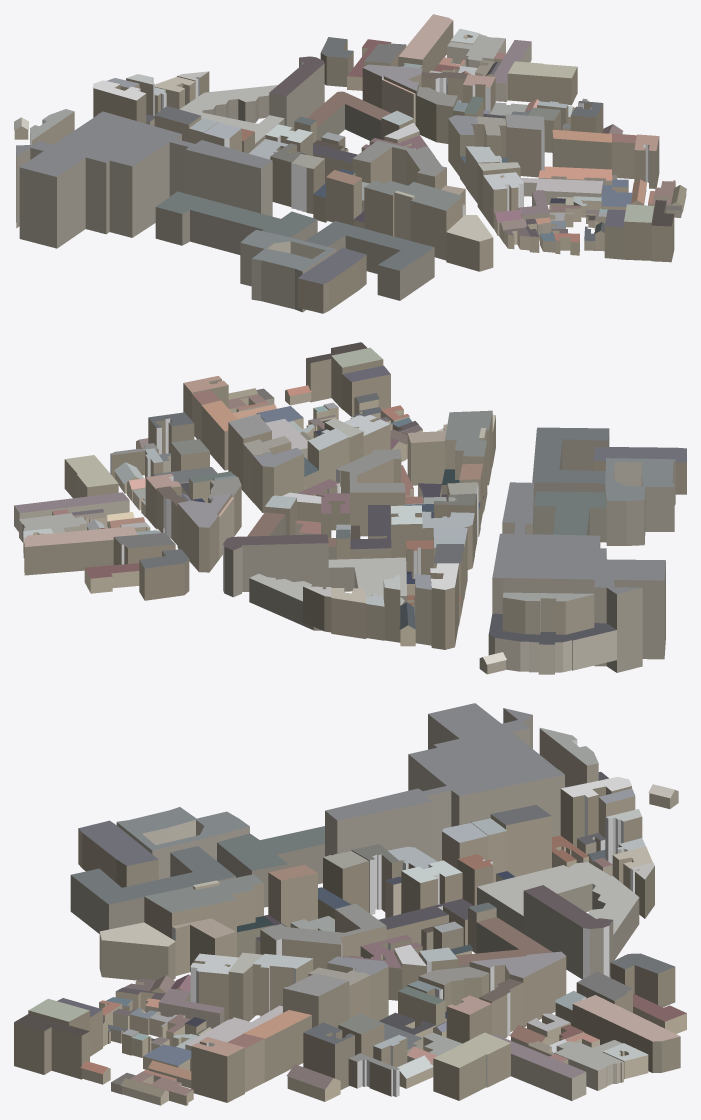
The picture shows the model from 3 angles, top to bottom: view 1: azimuth 30°, elevation 25°; view 2: azimuth 150°, elevation 25°; view 3: azimuth 270°, elevation 25°; orthographic projection. The views are drawn at different scales.
Parts seen in each view (by area): view 1: tuile; view 2: tuile; view 3: tuile.
Part boxes in pixels (x1=…): tuile: x1=14, y1=14, x2=686, y2=313; tuile: x1=14, y1=342, x2=686, y2=674; tuile: x1=14, y1=703, x2=686, y2=1105.
Size of the model in its own units: 301 by 39.58 by 260.
